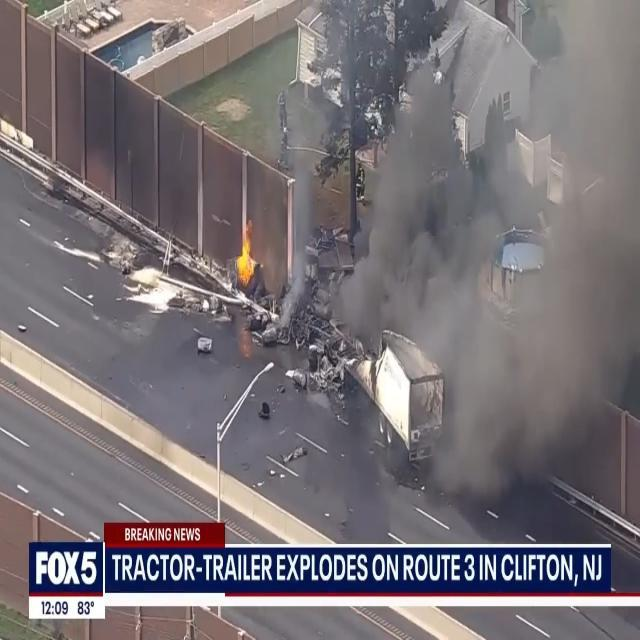fire: (230, 216, 258, 286)
